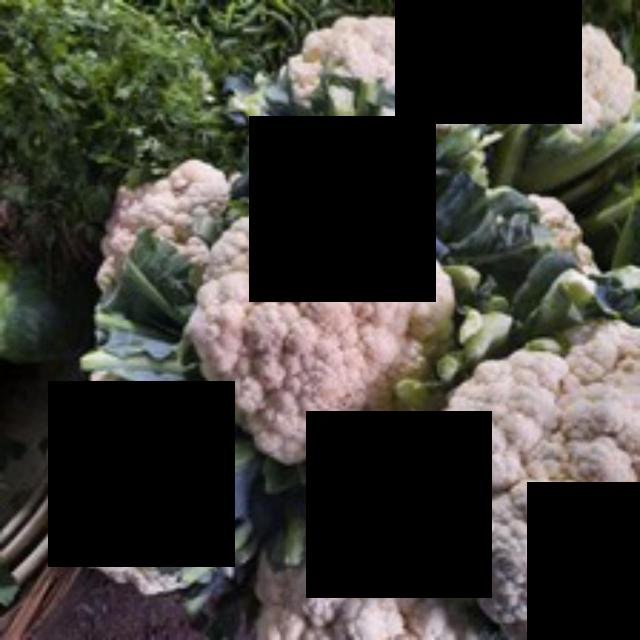cauliflower: (184, 185, 460, 471)
